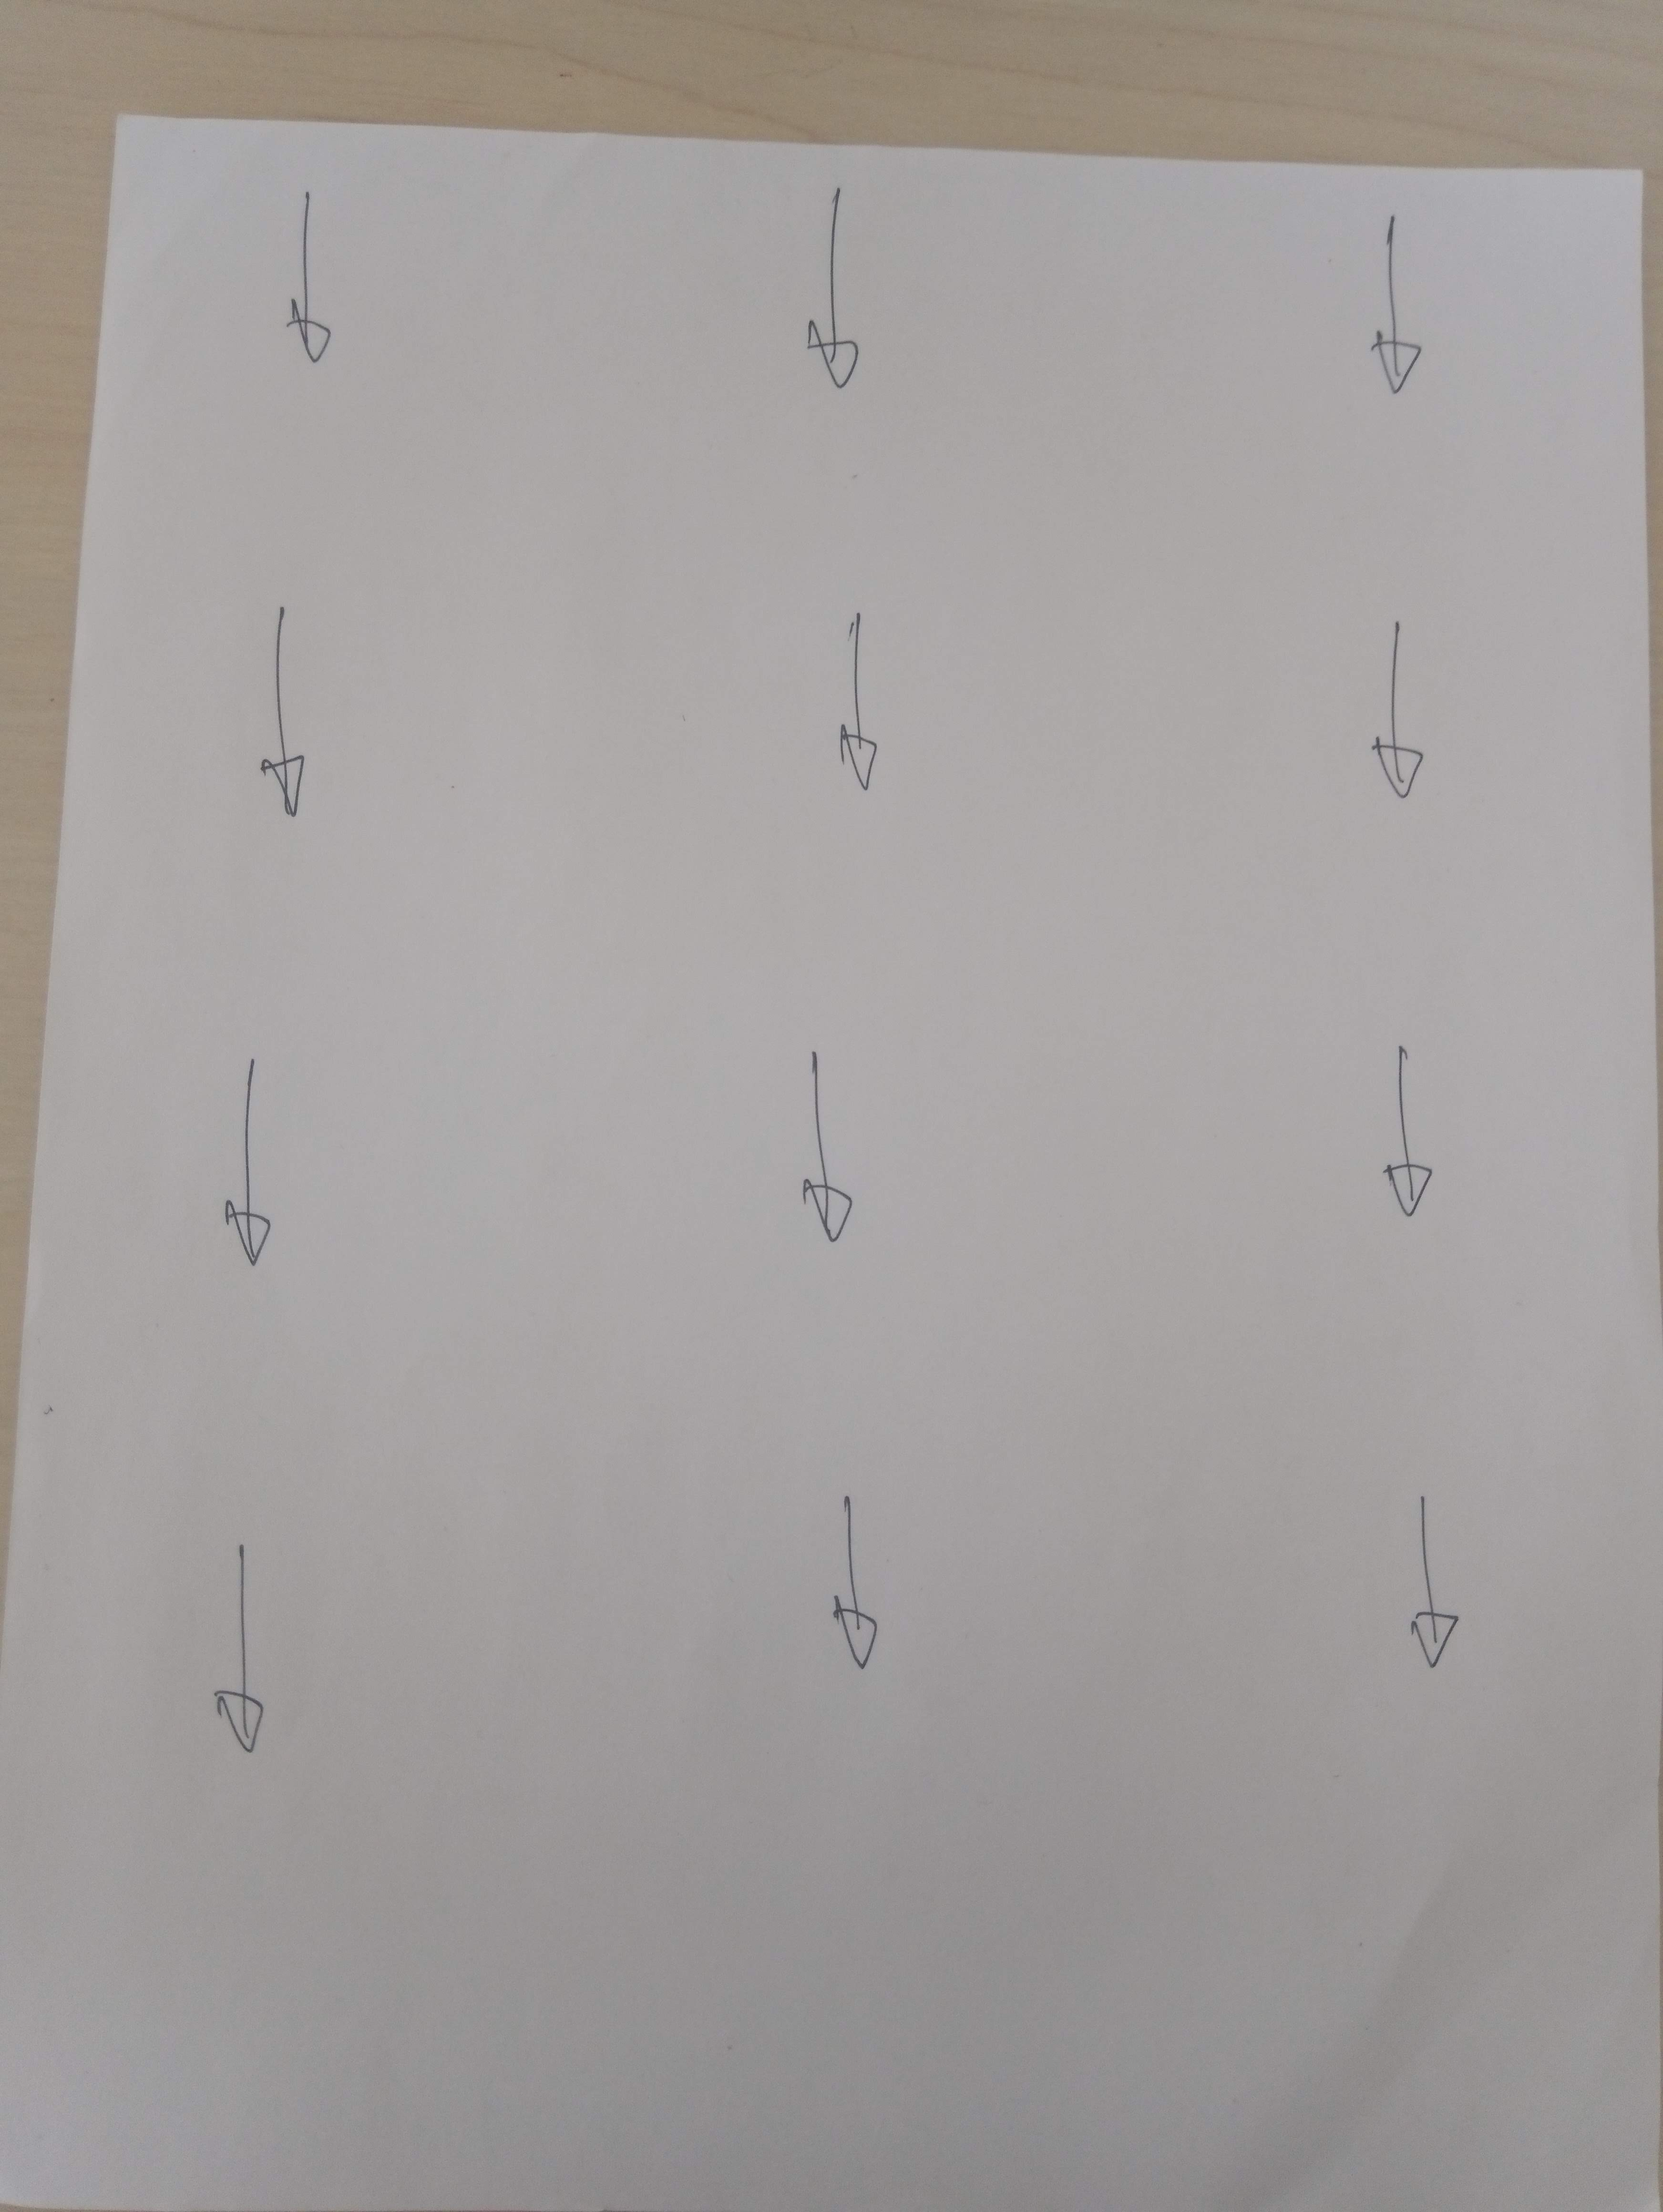arrow_line_down: (194, 1542, 299, 1777), (781, 1032, 879, 1257), (802, 171, 893, 409), (245, 595, 328, 828), (819, 1472, 908, 1678), (1363, 601, 1448, 812), (1370, 1032, 1459, 1234), (208, 1058, 285, 1288), (825, 601, 908, 808), (1392, 1484, 1476, 1674), (271, 189, 348, 388), (1359, 208, 1429, 405)
